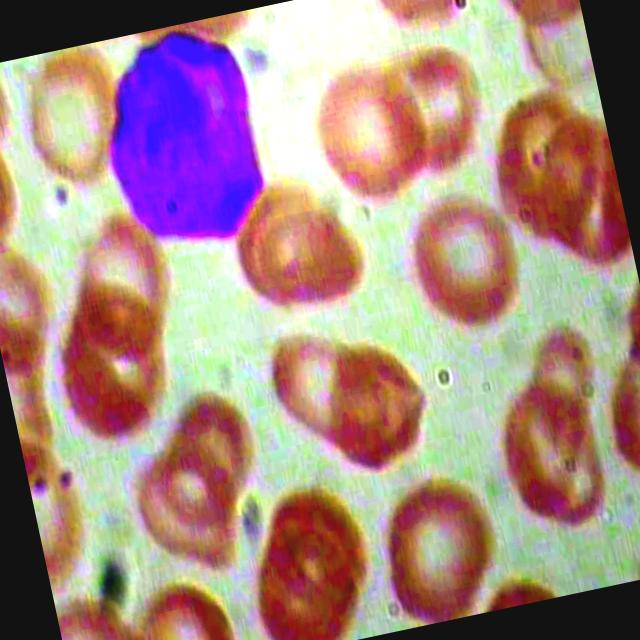RBC: (362, 456, 514, 630), (40, 272, 184, 449), (475, 75, 619, 252), (388, 180, 538, 343), (46, 208, 186, 374), (303, 50, 439, 216), (1, 38, 138, 202), (257, 312, 399, 468), (121, 434, 252, 591), (308, 329, 439, 486), (490, 383, 620, 540), (376, 37, 498, 183), (236, 509, 368, 640), (248, 198, 376, 320), (18, 425, 106, 600), (0, 219, 66, 377), (115, 568, 241, 640), (53, 588, 149, 640)
WBC: (82, 9, 290, 259)
